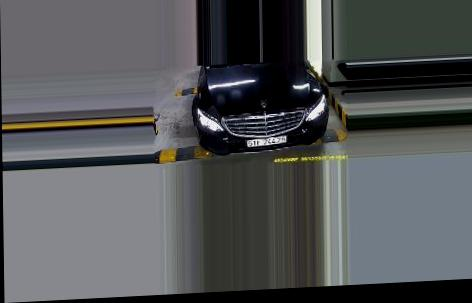License_Plate: (247, 133, 289, 149)
